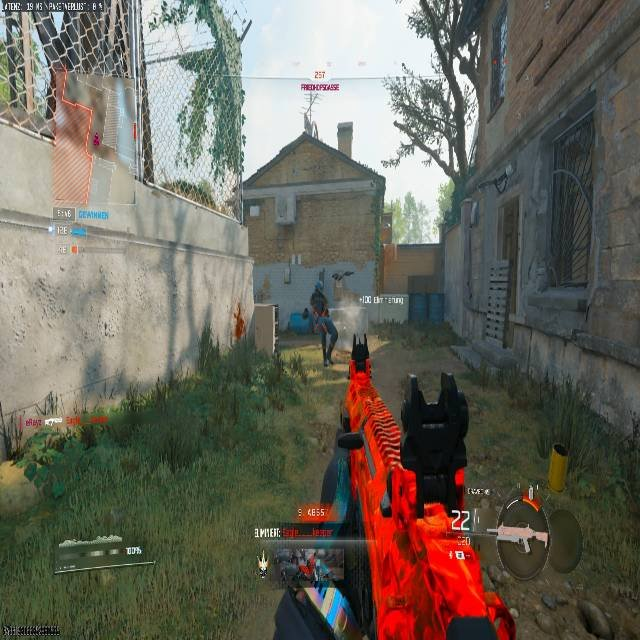head: (314, 281, 323, 291)
player: (266, 547, 336, 638), (308, 284, 337, 366)
